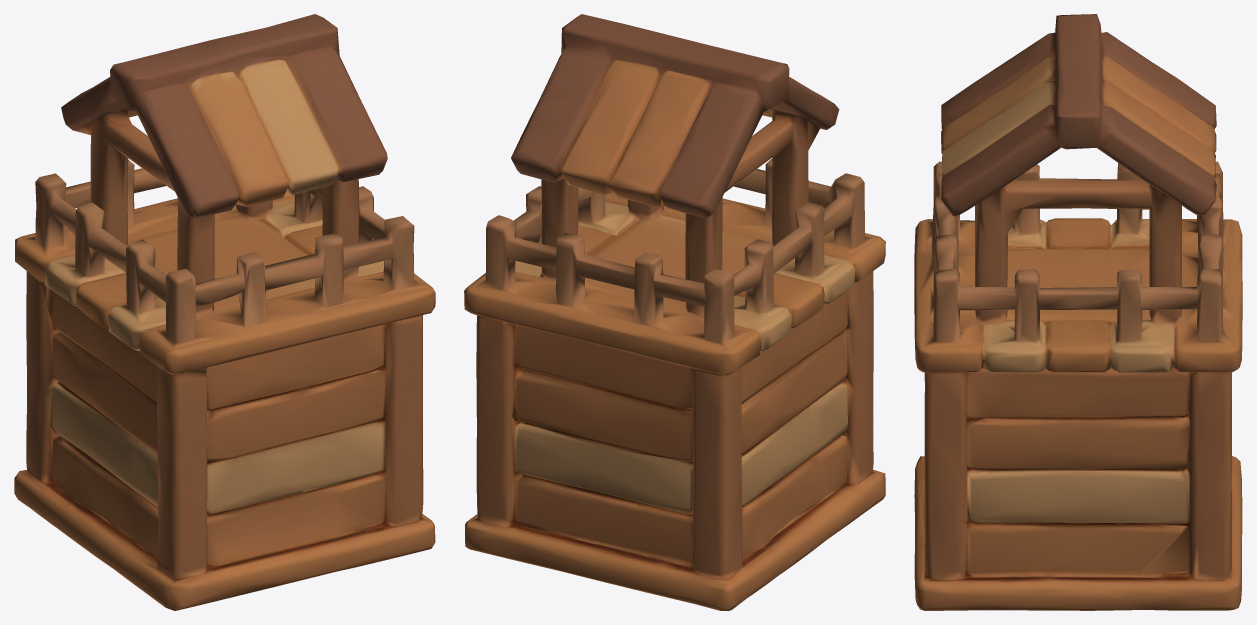
The model's file is well.glb.
3 renders of one model, left to right at view 1: azimuth 30°, elevation 25°; view 2: azimuth 150°, elevation 25°; view 3: azimuth 270°, elevation 25°, orthographic.
Parts seen in each view (by area): view 1: tripo_node_5ba81cf3-5d8c-43c3-ade1-36ea24dd3758; view 2: tripo_node_5ba81cf3-5d8c-43c3-ade1-36ea24dd3758; view 3: tripo_node_5ba81cf3-5d8c-43c3-ade1-36ea24dd3758.
Boxes of the visible parts, <box> form: tripo_node_5ba81cf3-5d8c-43c3-ade1-36ea24dd3758: <box>14,14,435,610</box>; tripo_node_5ba81cf3-5d8c-43c3-ade1-36ea24dd3758: <box>464,14,885,610</box>; tripo_node_5ba81cf3-5d8c-43c3-ade1-36ea24dd3758: <box>914,14,1242,610</box>.
Bounding box in the file's own units: 0.5963 × 1 × 0.613.
1 material, 1 textured.
